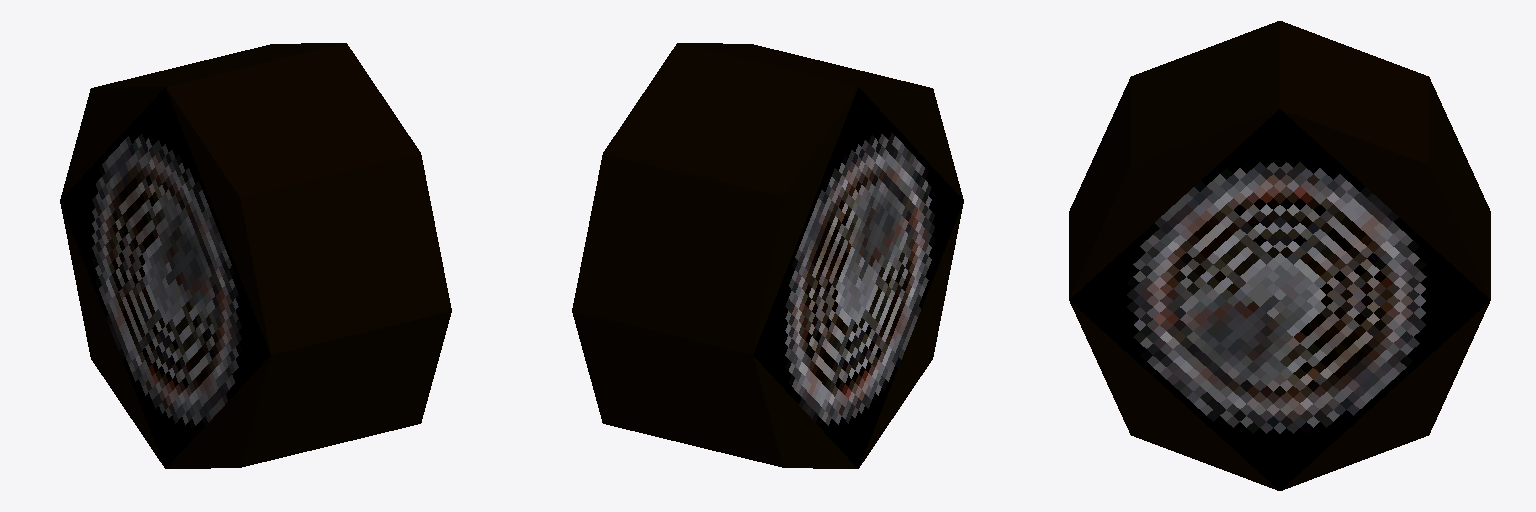
3 renders of one model, left to right at view 1: azimuth 30°, elevation 25°; view 2: azimuth 150°, elevation 25°; view 3: azimuth 270°, elevation 25°, orthographic.
Parts seen in each view (by area): view 1: WheelFrontR; view 2: WheelFrontR; view 3: WheelFrontR.
Part boxes in pixels (left/top/right/bottom): WheelFrontR: left=60, top=43, right=451, bottom=468; WheelFrontR: left=572, top=43, right=963, bottom=468; WheelFrontR: left=1069, top=21, right=1490, bottom=490.
Size of the model in its own units: 0.5977 by 1.21 by 1.21.
2 materials, 1 textured.